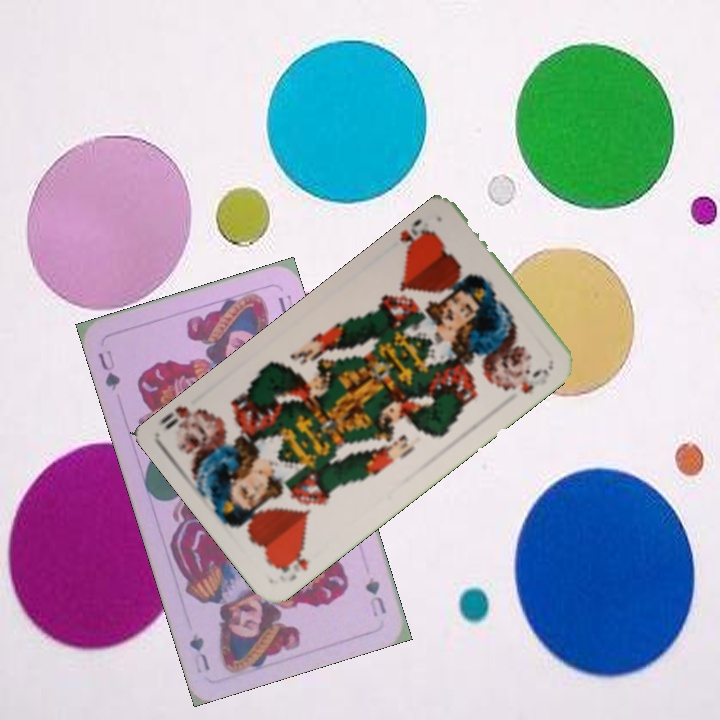GU: (94, 346, 123, 393), (361, 573, 389, 620)
HO: (395, 216, 439, 260), (272, 543, 311, 585)
